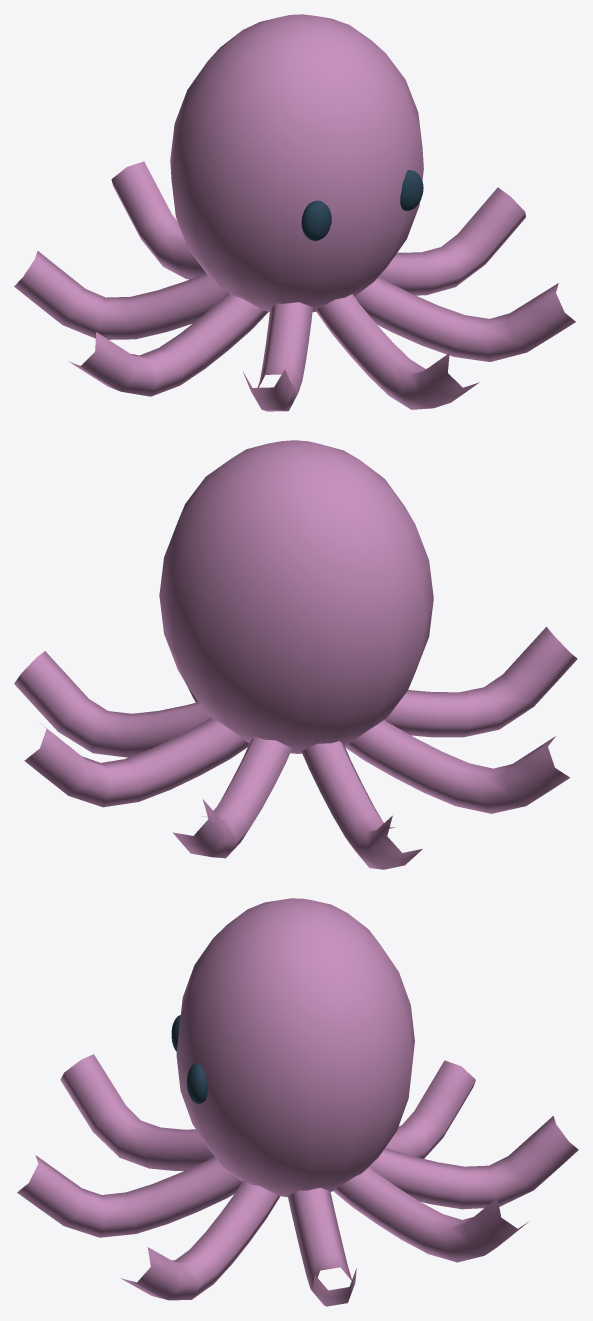
The model's file is octopus.gltf.
3 renders of one model, top to bottom at view 1: azimuth 30°, elevation 25°; view 2: azimuth 150°, elevation 25°; view 3: azimuth 270°, elevation 25°, orthographic. The views are drawn at different scales.
Visible parts, largest first — view 1: Group (×8); view 2: Group (×7); view 3: Group (×8).
Boxes of the visible parts, <box> form: Group (×8): <box>14,14,575,411</box>; Group (×7): <box>14,440,577,869</box>; Group (×8): <box>17,898,578,1306</box>.
Bounding box in the file's own units: 1.96 × 1.25 × 1.97.
